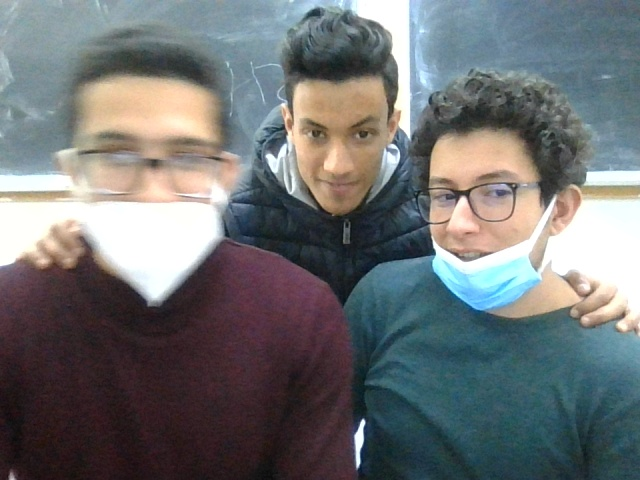mask_weared_incorrect: (414, 73, 591, 315)
without_mask: (279, 13, 406, 228)
